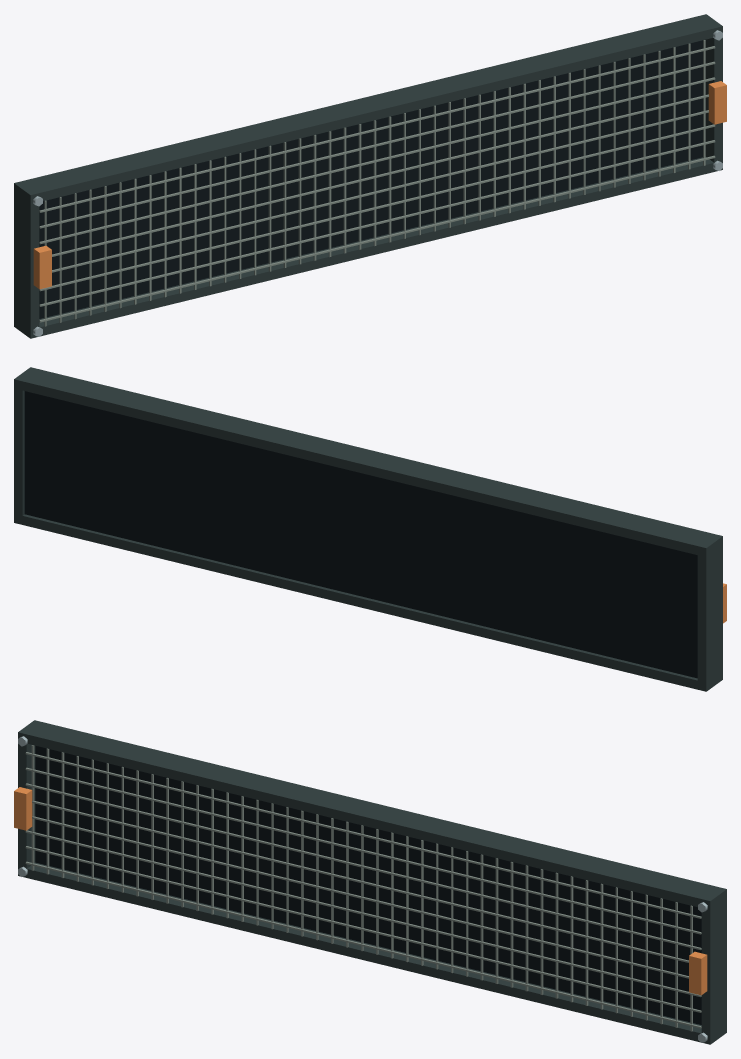
File: filter-carbon.glb
3 views of the same model, one above another, from view 1: azimuth 30°, elevation 25°; view 2: azimuth 150°, elevation 25°; view 3: azimuth 330°, elevation 25° (orthographic).
Visible parts, largest first — view 1: filter-carbon, Anodized graphite, Filter fibres, Industrial orange; view 2: filter-carbon, Anodized graphite; view 3: filter-carbon, Anodized graphite, Filter fibres, Industrial orange.
Boxes of the visible parts, x1,y1,x2,y2 form: filter-carbon: [39, 39, 705, 318]; Anodized graphite: [14, 14, 722, 338]; Filter fibres: [39, 40, 715, 326]; Industrial orange: [33, 81, 726, 289]; filter-carbon: [24, 391, 697, 678]; Anodized graphite: [14, 367, 722, 691]; filter-carbon: [35, 745, 701, 1024]; Anodized graphite: [18, 720, 726, 1044]; Filter fibres: [25, 745, 701, 1031]; Industrial orange: [14, 787, 707, 995].
Bounding box in the file's own units: 5.55 × 1.1 × 0.32.
